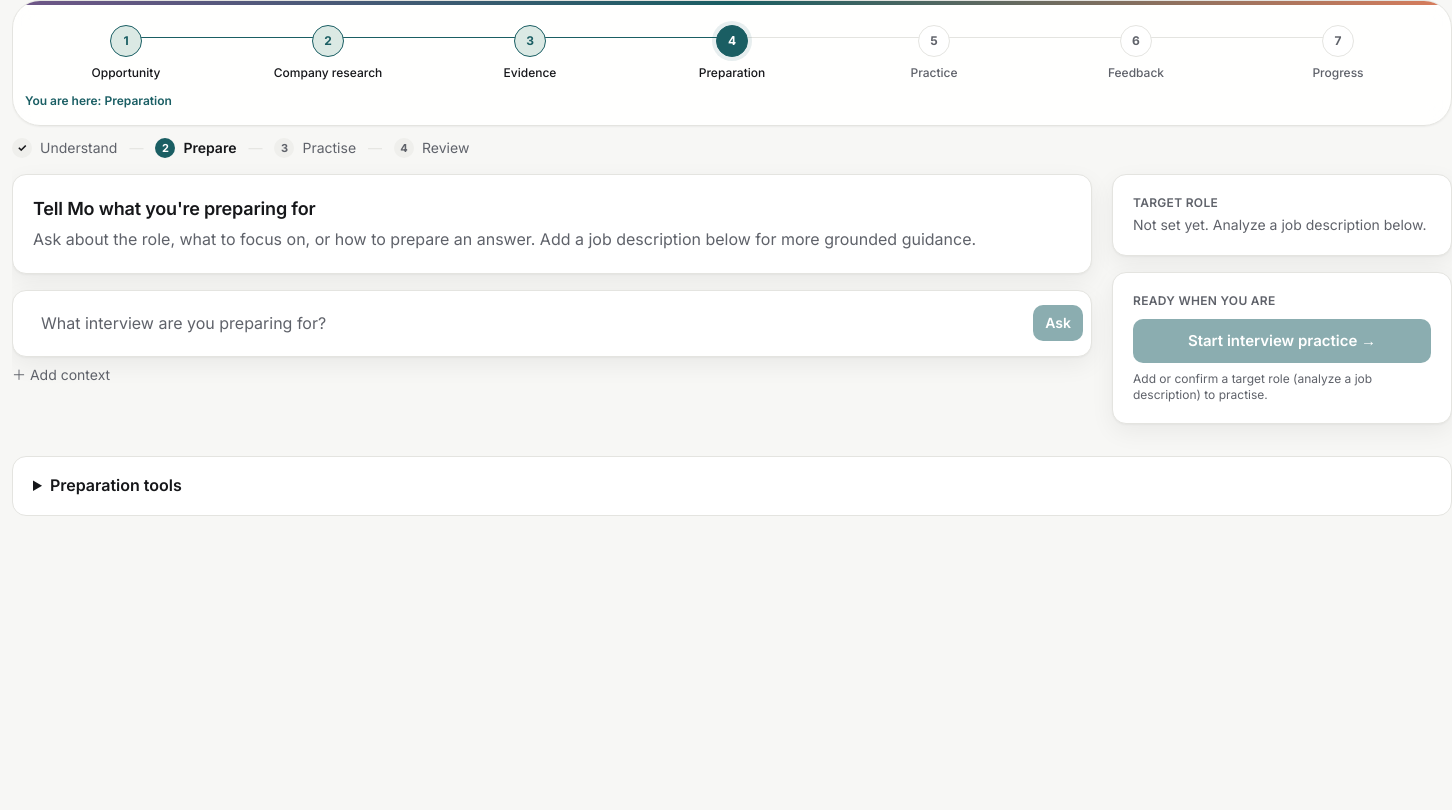
Test case: Prepare workspace › submits a typed request and renders the grounded response + sources
Type "What should I focus on?" into the field named "Ask the coach".
click(526, 323); type("What should I focus on?")  # box left=27, top=299, right=1025, bottom=348
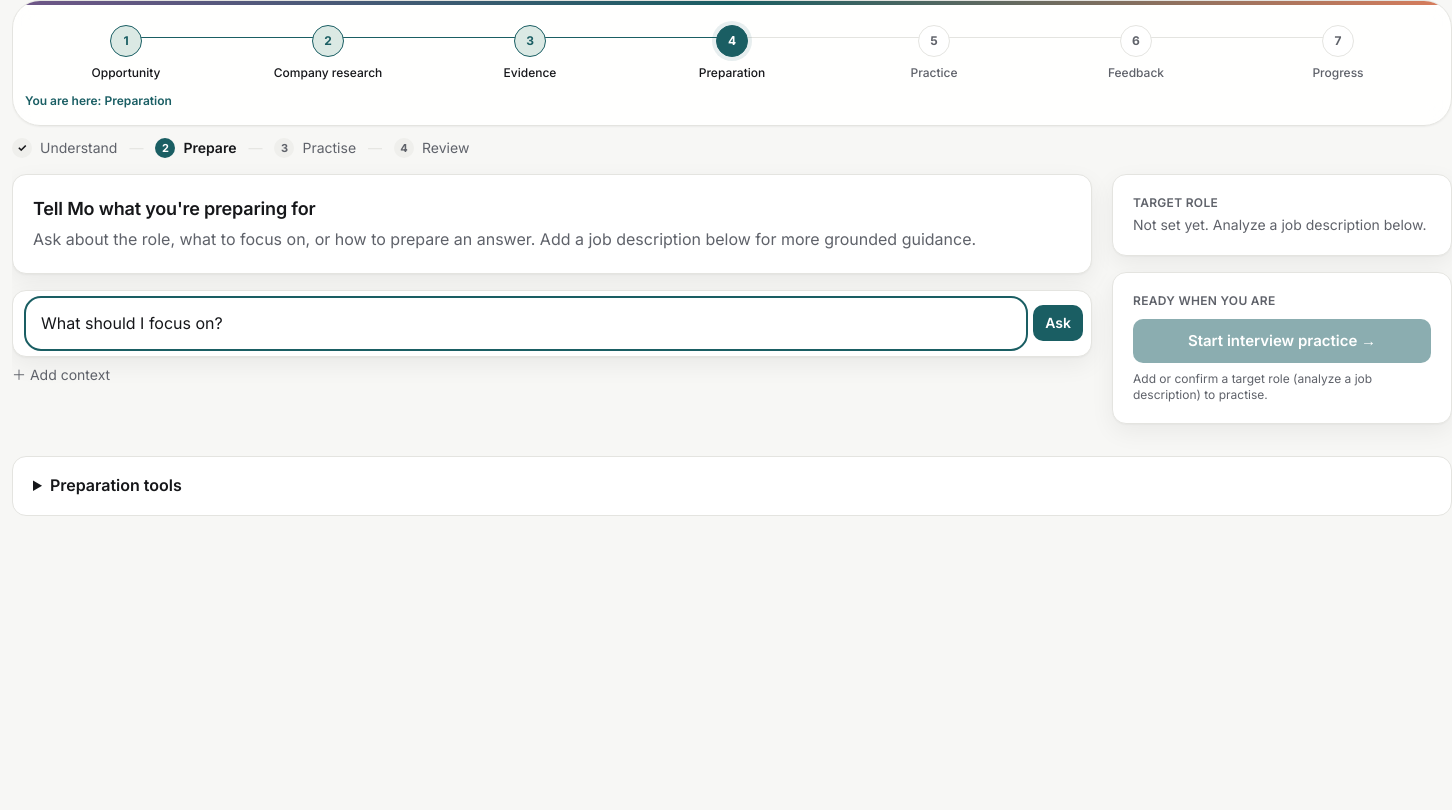
Click the button "Ask".
click(1058, 323)  # box left=1033, top=305, right=1083, bottom=341
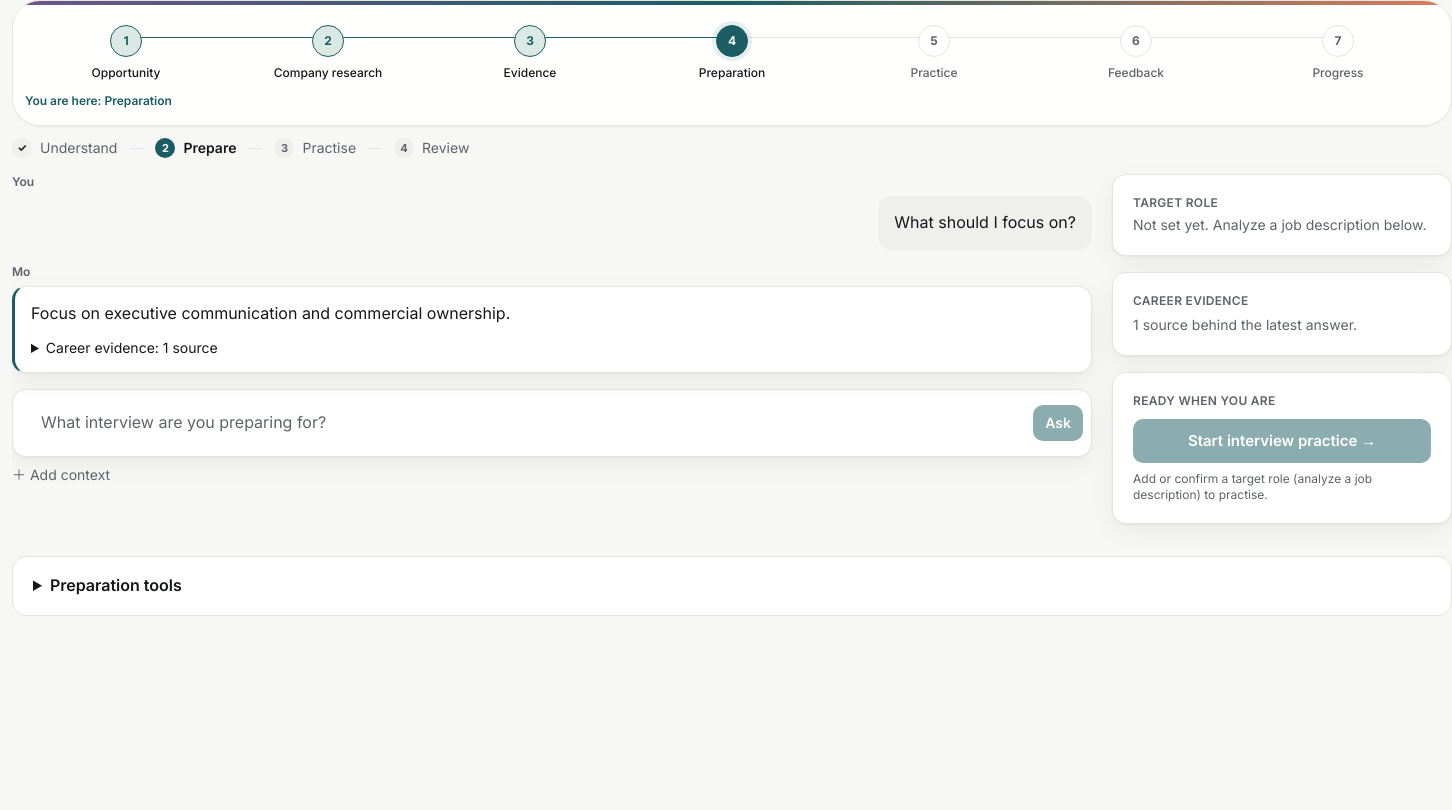
Check: the text "Focus on executive communication and commercial ownership." is shown, box left=31, top=303, right=510, bottom=323
Check: the heading "Career evidence: 1 source" is shown, box left=46, top=339, right=218, bottom=356
